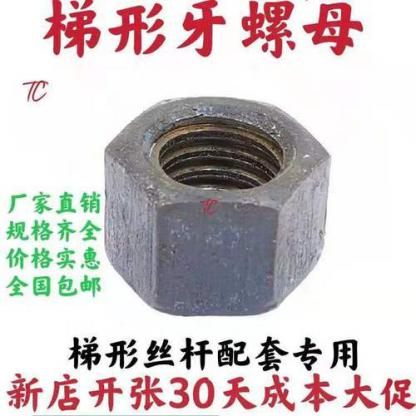FOD: (98, 92, 342, 319)
